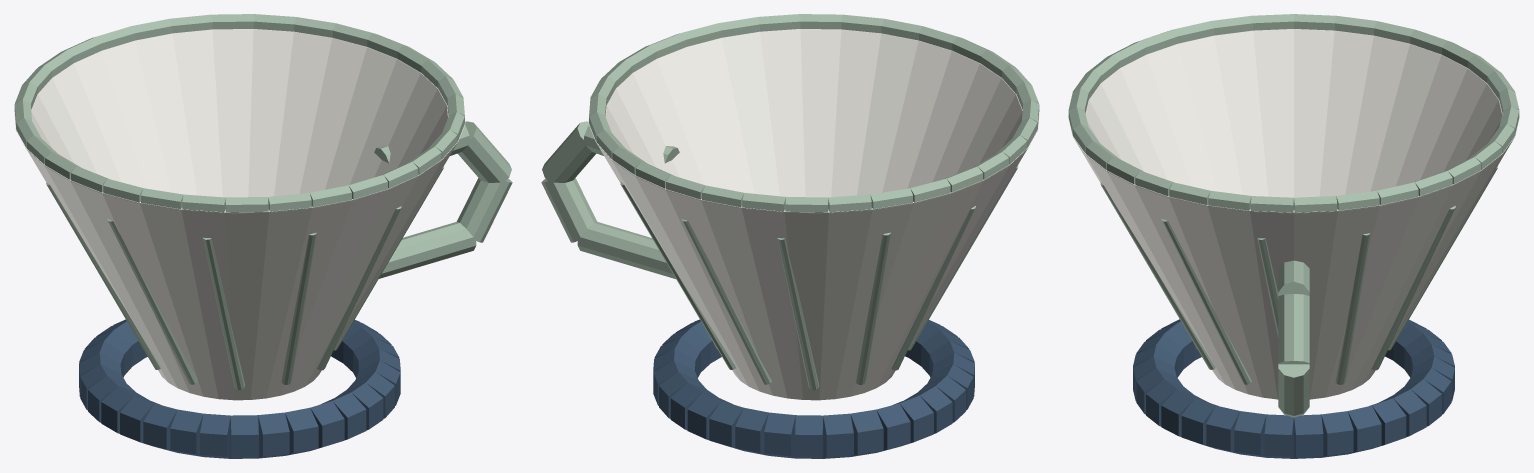
File: dripper.glb
The picture shows the model from 3 angles, left to right: view 1: azimuth 30°, elevation 25°; view 2: azimuth 150°, elevation 25°; view 3: azimuth 270°, elevation 25°; orthographic projection.
Parts seen in each view (by area): view 1: conical wall, handle3, handle2, handle1, flute40, flute30, flute50, support foot9, support foot11, support foot12, support foot10, support foot8 (+40 smaller); view 2: conical wall, handle3, handle2, handle1, flute80, flute70, flute90, support foot22, support foot20, support foot19, support foot21, support foot23 (+40 smaller); view 3: conical wall, handle1, handle2, flute110, flute10, support foot1, support foot30, support foot0, support foot31, support foot2, support foot29, flute100 (+42 smaller).
Part boxes in pixels (bbox=[...]): conical wall: bbox=[14, 29, 465, 400]; handle3: bbox=[379, 221, 476, 278]; handle2: bbox=[457, 178, 512, 242]; handle1: bbox=[457, 121, 511, 183]; flute40: bbox=[203, 237, 245, 390]; flute30: bbox=[281, 232, 316, 384]; flute50: bbox=[107, 219, 197, 384]; support foot9: bbox=[258, 412, 289, 458]; support foot11: bbox=[200, 413, 230, 458]; support foot12: bbox=[170, 409, 203, 456]; support foot10: bbox=[230, 415, 258, 458]; support foot8: bbox=[285, 407, 318, 455]; conical wall: bbox=[588, 29, 1039, 400]; handle3: bbox=[577, 221, 675, 278]; handle2: bbox=[541, 178, 596, 242]; handle1: bbox=[542, 121, 596, 183]; flute80: bbox=[777, 238, 819, 390]; flute70: bbox=[856, 232, 890, 384]; flute90: bbox=[681, 219, 771, 384]; support foot22: bbox=[764, 412, 795, 458]; support foot20: bbox=[823, 413, 853, 458]; support foot19: bbox=[850, 409, 883, 456]; support foot21: bbox=[795, 415, 823, 458]; support foot23: bbox=[735, 407, 768, 455]; conical wall: bbox=[1068, 29, 1519, 399]; handle1: bbox=[1278, 294, 1309, 364]; handle2: bbox=[1278, 364, 1309, 415]; flute110: bbox=[1335, 233, 1370, 384]; flute10: bbox=[1161, 219, 1251, 384]; support foot1: bbox=[1234, 411, 1266, 457]; support foot30: bbox=[1321, 411, 1353, 457]; support foot0: bbox=[1264, 414, 1293, 458]; support foot31: bbox=[1294, 414, 1323, 458]; support foot2: bbox=[1206, 405, 1239, 454]; support foot29: bbox=[1348, 405, 1381, 454]; flute100: bbox=[1371, 205, 1455, 370].
Size of the model in its own units: 1.57 by 0.947 by 1.32.
